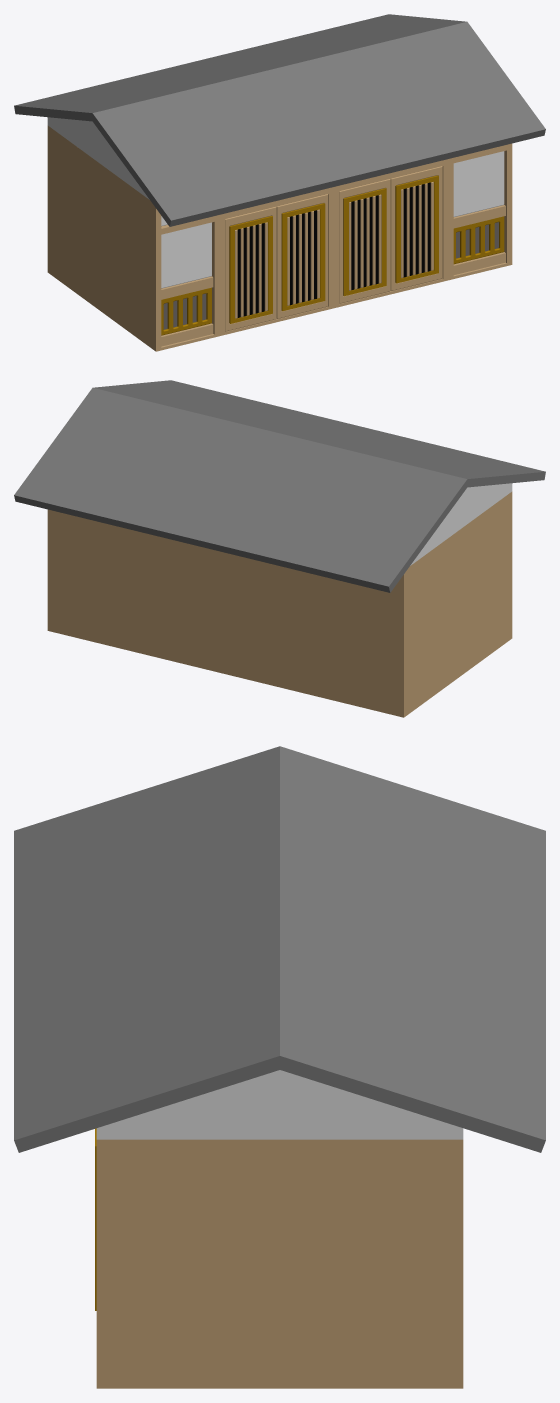
The picture shows the model from 3 angles, top to bottom: view 1: azimuth 30°, elevation 25°; view 2: azimuth 150°, elevation 25°; view 3: azimuth 270°, elevation 25°; orthographic projection. The views are drawn at different scales.
Visible parts, largest first — view 1: 011_House_nagaya1; view 2: 011_House_nagaya1; view 3: 011_House_nagaya1.
Boxes of the visible parts, x1,y1,x2,y2 form: 011_House_nagaya1: (14, 14, 545, 351); 011_House_nagaya1: (14, 380, 545, 717); 011_House_nagaya1: (14, 746, 545, 1388).
Size of the model in its own units: 0.2 by 0.1026 by 0.1452.
